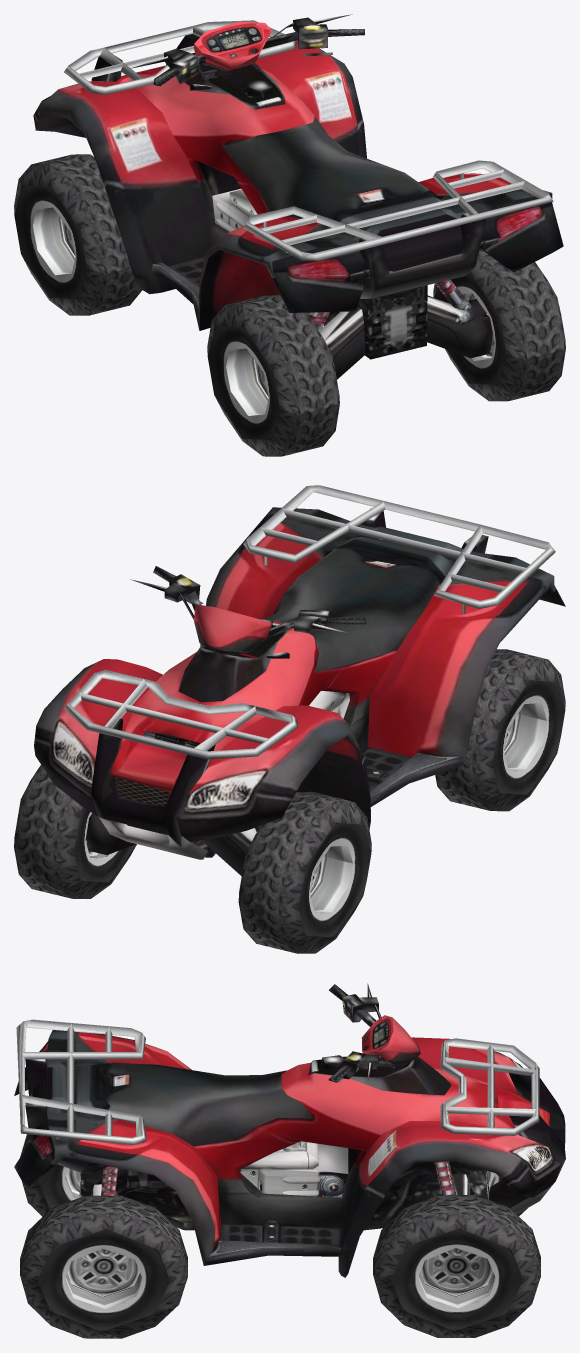
The model's file is ATV0.5.glb.
The picture shows the model from 3 angles, top to bottom: view 1: azimuth 30°, elevation 25°; view 2: azimuth 150°, elevation 25°; view 3: azimuth 270°, elevation 25°; orthographic projection. The views are drawn at different scales.
Visible parts, largest first — view 1: ATV; view 2: ATV; view 3: ATV.
Part boxes in pixels (x1,y1,x2,y2): ATV: (14, 14, 565, 456); ATV: (14, 485, 565, 953); ATV: (14, 983, 565, 1338).
Bounding box in the file's own units: 1.43 × 1.32 × 2.62.
1 material, 1 textured.
